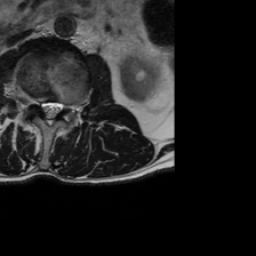CCS_normal: (46, 97, 54, 129)
LFS_severe_stenosis: (62, 98, 70, 114)
LLS_normal: (54, 95, 62, 117)
RFS_severe_stenosis: (32, 95, 40, 111)
RLS_stenosis: (40, 95, 47, 118)
